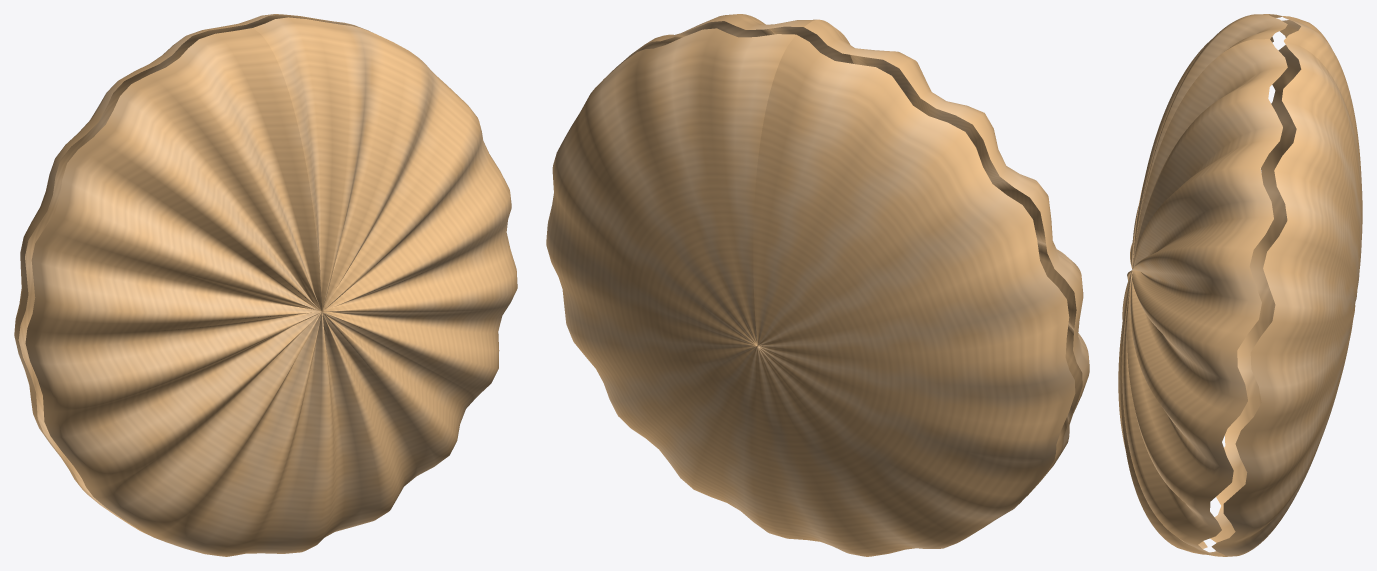
Rendered from cockle.glb.
The picture shows the model from 3 angles, left to right: view 1: azimuth 30°, elevation 25°; view 2: azimuth 150°, elevation 25°; view 3: azimuth 270°, elevation 25°; orthographic projection. The views are drawn at different scales.
Parts seen in each view (by area): view 1: cockle; view 2: cockle; view 3: cockle.
Boxes of the visible parts, x1=… form: cockle: x1=14, y1=14, x2=517, y2=556; cockle: x1=546, y1=14, x2=1089, y2=556; cockle: x1=1118, y1=14, x2=1362, y2=556.
Size of the model in its own units: 2.38 by 2.36 by 1.07.
